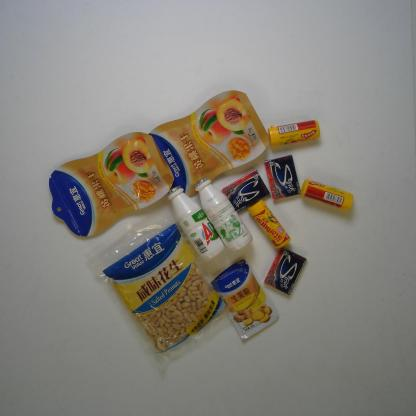Candy: (247, 199, 292, 249), (300, 178, 354, 211), (267, 119, 321, 148)
Dried Fruit: (83, 210, 239, 368), (48, 131, 175, 240), (147, 89, 270, 198)
Gum: (221, 169, 272, 213), (264, 246, 307, 296), (264, 154, 300, 201)
Milk: (193, 176, 253, 253), (166, 185, 226, 261)
Seasoner: (209, 259, 279, 340)
